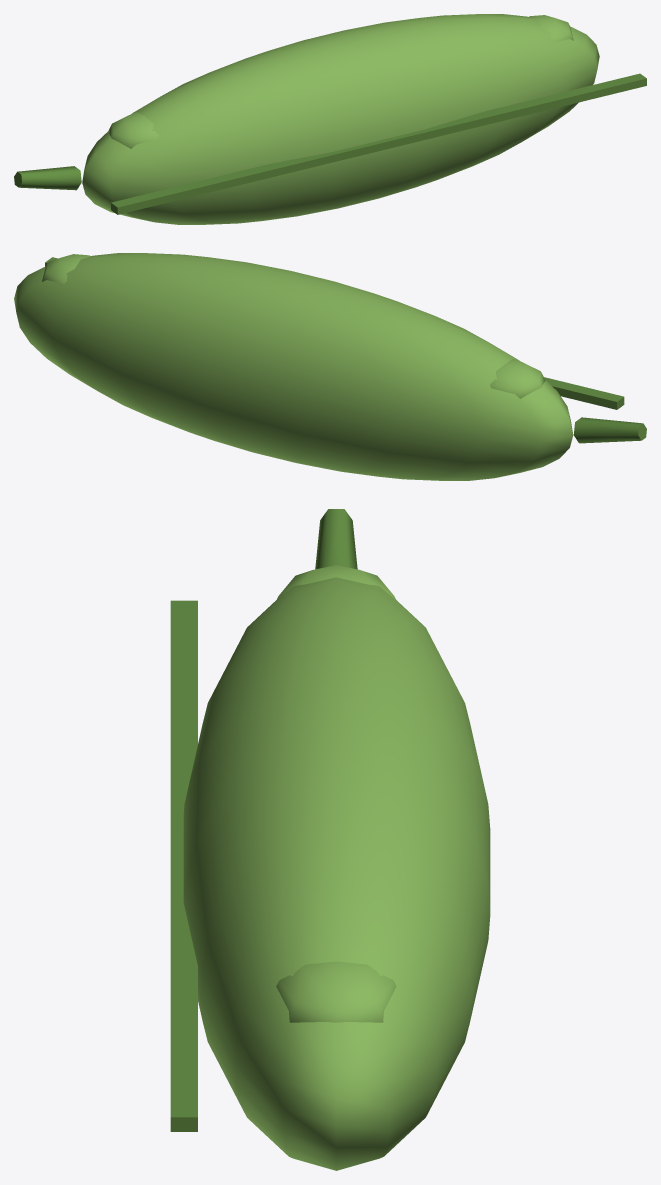
The model's file is vaina-haba.glb.
The picture shows the model from 3 angles, top to bottom: view 1: azimuth 30°, elevation 25°; view 2: azimuth 150°, elevation 25°; view 3: azimuth 270°, elevation 25°; orthographic projection. The views are drawn at different scales.
Visible parts, largest first — view 1: tapa, abajo, costura, rabo, bulto0, bulto4; view 2: tapa, abajo, rabo, bulto0, costura, bulto4; view 3: tapa, costura, abajo, bulto4, rabo, bulto0.
Boxes of the visible parts, box(x1,y1,x2,y2) form: tapa: box(82, 14, 599, 188); abajo: box(82, 70, 597, 224); costura: box(111, 73, 646, 214); rabo: box(14, 166, 81, 190); bulto0: box(108, 112, 158, 148); bulto4: box(528, 15, 573, 42); tapa: box(14, 253, 573, 441); abajo: box(16, 313, 573, 480); rabo: box(573, 417, 646, 443); bulto0: box(490, 359, 545, 398); costura: box(45, 257, 624, 409); bulto4: box(42, 254, 91, 283); tapa: box(183, 577, 490, 1124); costura: box(170, 600, 197, 1131); abajo: box(198, 917, 490, 1170); bulto4: box(276, 961, 396, 1022); rabo: box(315, 509, 357, 569); bulto0: box(276, 565, 395, 600).
Bounding box in the file's own units: 1 × 0.26 × 0.2353.
